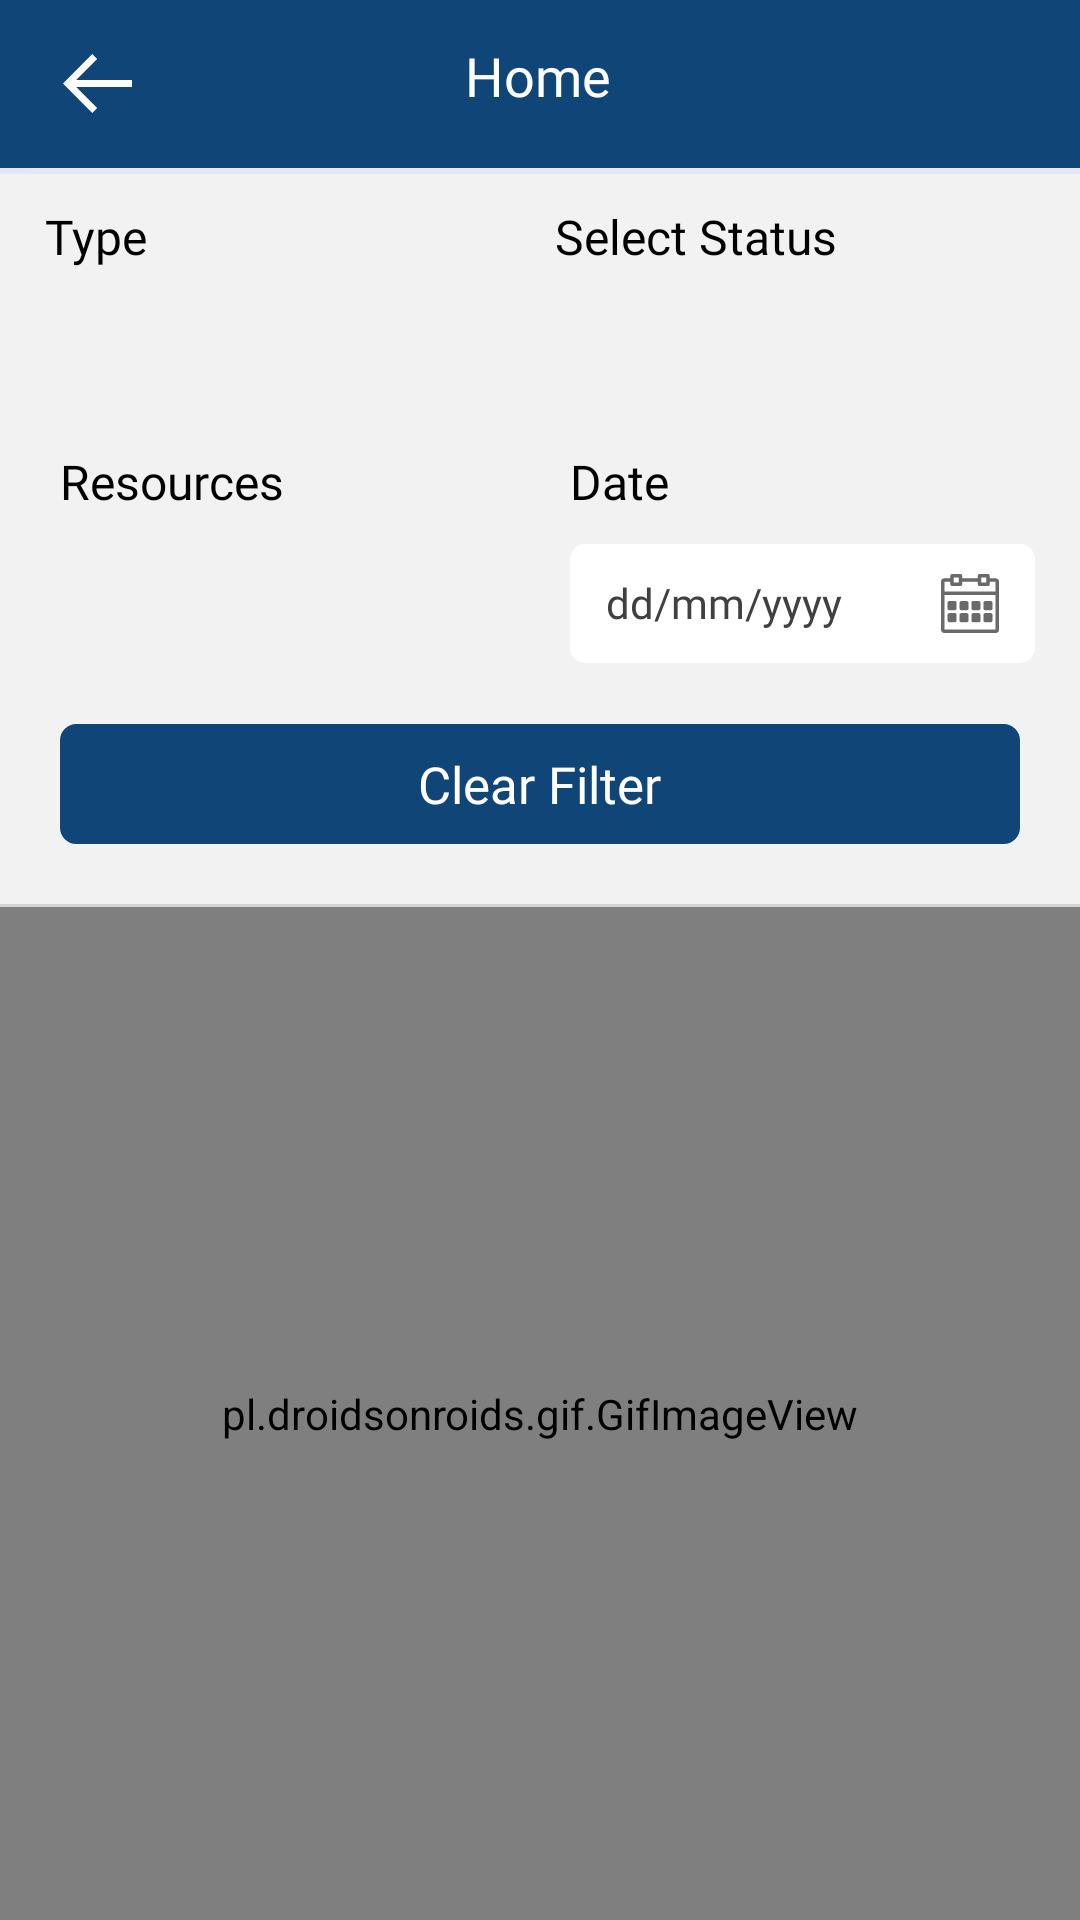

Named icons in this screenshot (1080w x 1920h) and their bounding boxes, box=[x1, y1, x2, y2]:
back arrow: box=[63, 54, 132, 113]
calendar: box=[941, 574, 999, 633]
